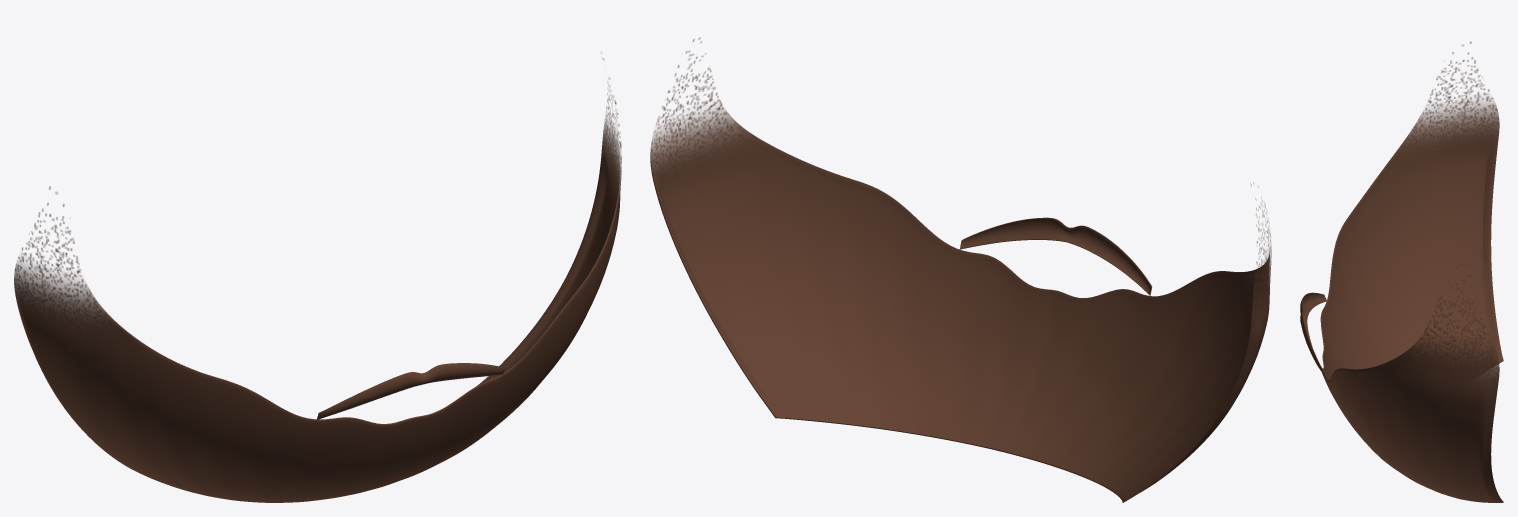
Rendered from Masculine-groom-short.glb.
3 views of the same model, side by side, from view 1: azimuth 30°, elevation 25°; view 2: azimuth 150°, elevation 25°; view 3: azimuth 270°, elevation 25° (orthographic). The views are drawn at different scales.
Visible parts, largest first — view 1: Groom / short body184, Groom / shared mustache185; view 2: Groom / short body184, Groom / shared mustache185; view 3: Groom / short body184, Groom / shared mustache185.
Boxes of the visible parts, x1,y1,x2,y2 form: Groom / short body184: [14, 52, 621, 502]; Groom / shared mustache185: [316, 363, 504, 419]; Groom / short body184: [650, 37, 1271, 502]; Groom / shared mustache185: [959, 217, 1152, 295]; Groom / short body184: [1320, 41, 1503, 502]; Groom / shared mustache185: [1300, 292, 1327, 378].
Bounding box in the file's own units: 0.9527 × 0.6001 × 0.3335.
2 materials, 1 textured.
